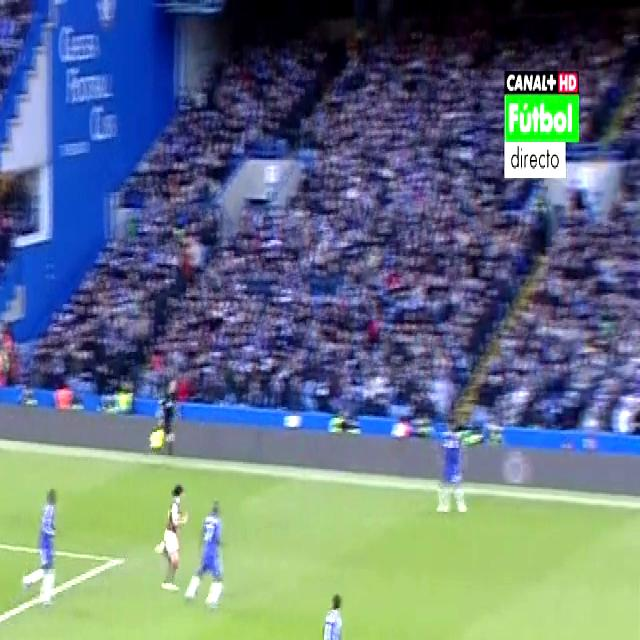referee: (144, 368, 186, 456)
soccer-player: (182, 488, 234, 619), (23, 477, 69, 612), (431, 411, 475, 527), (154, 471, 193, 601), (298, 576, 359, 640)
